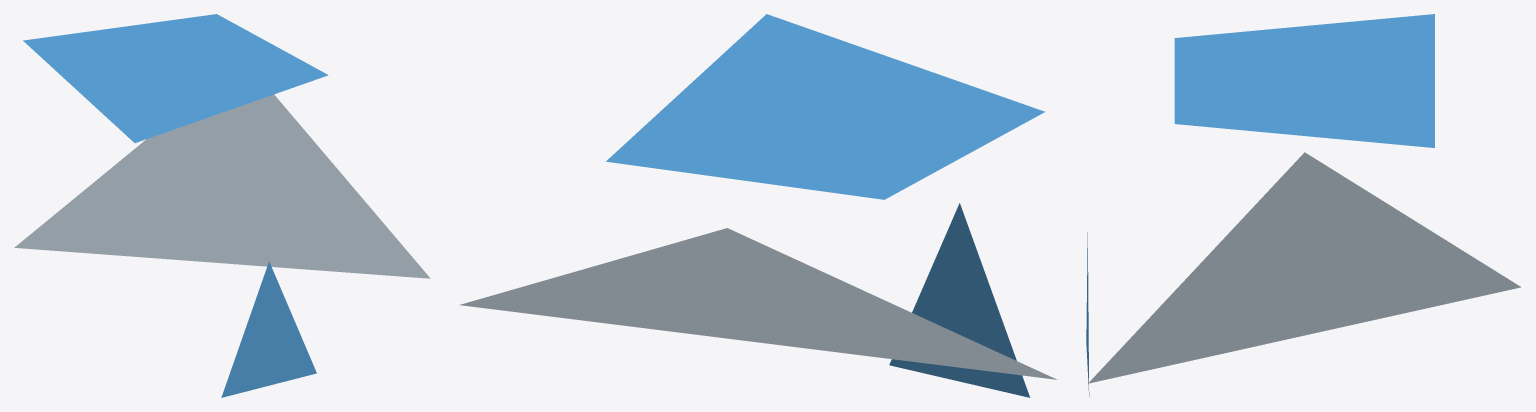
Rendered from AL_SuperweaponOrbital_LOD2.glb.
The picture shows the model from 3 angles, left to right: view 1: azimuth 30°, elevation 25°; view 2: azimuth 150°, elevation 25°; view 3: azimuth 270°, elevation 25°; orthographic projection. The views are drawn at different scales.
Parts seen in each view (by area): view 1: EntranceGate; view 2: EntranceGate; view 3: EntranceGate.
Part boxes in pixels (bbox=[...]): EntranceGate: bbox=[14, 14, 430, 397]; EntranceGate: bbox=[460, 14, 1057, 397]; EntranceGate: bbox=[1086, 14, 1520, 396].
Bounding box in the file's own units: 1000 × 767 × 1003.
